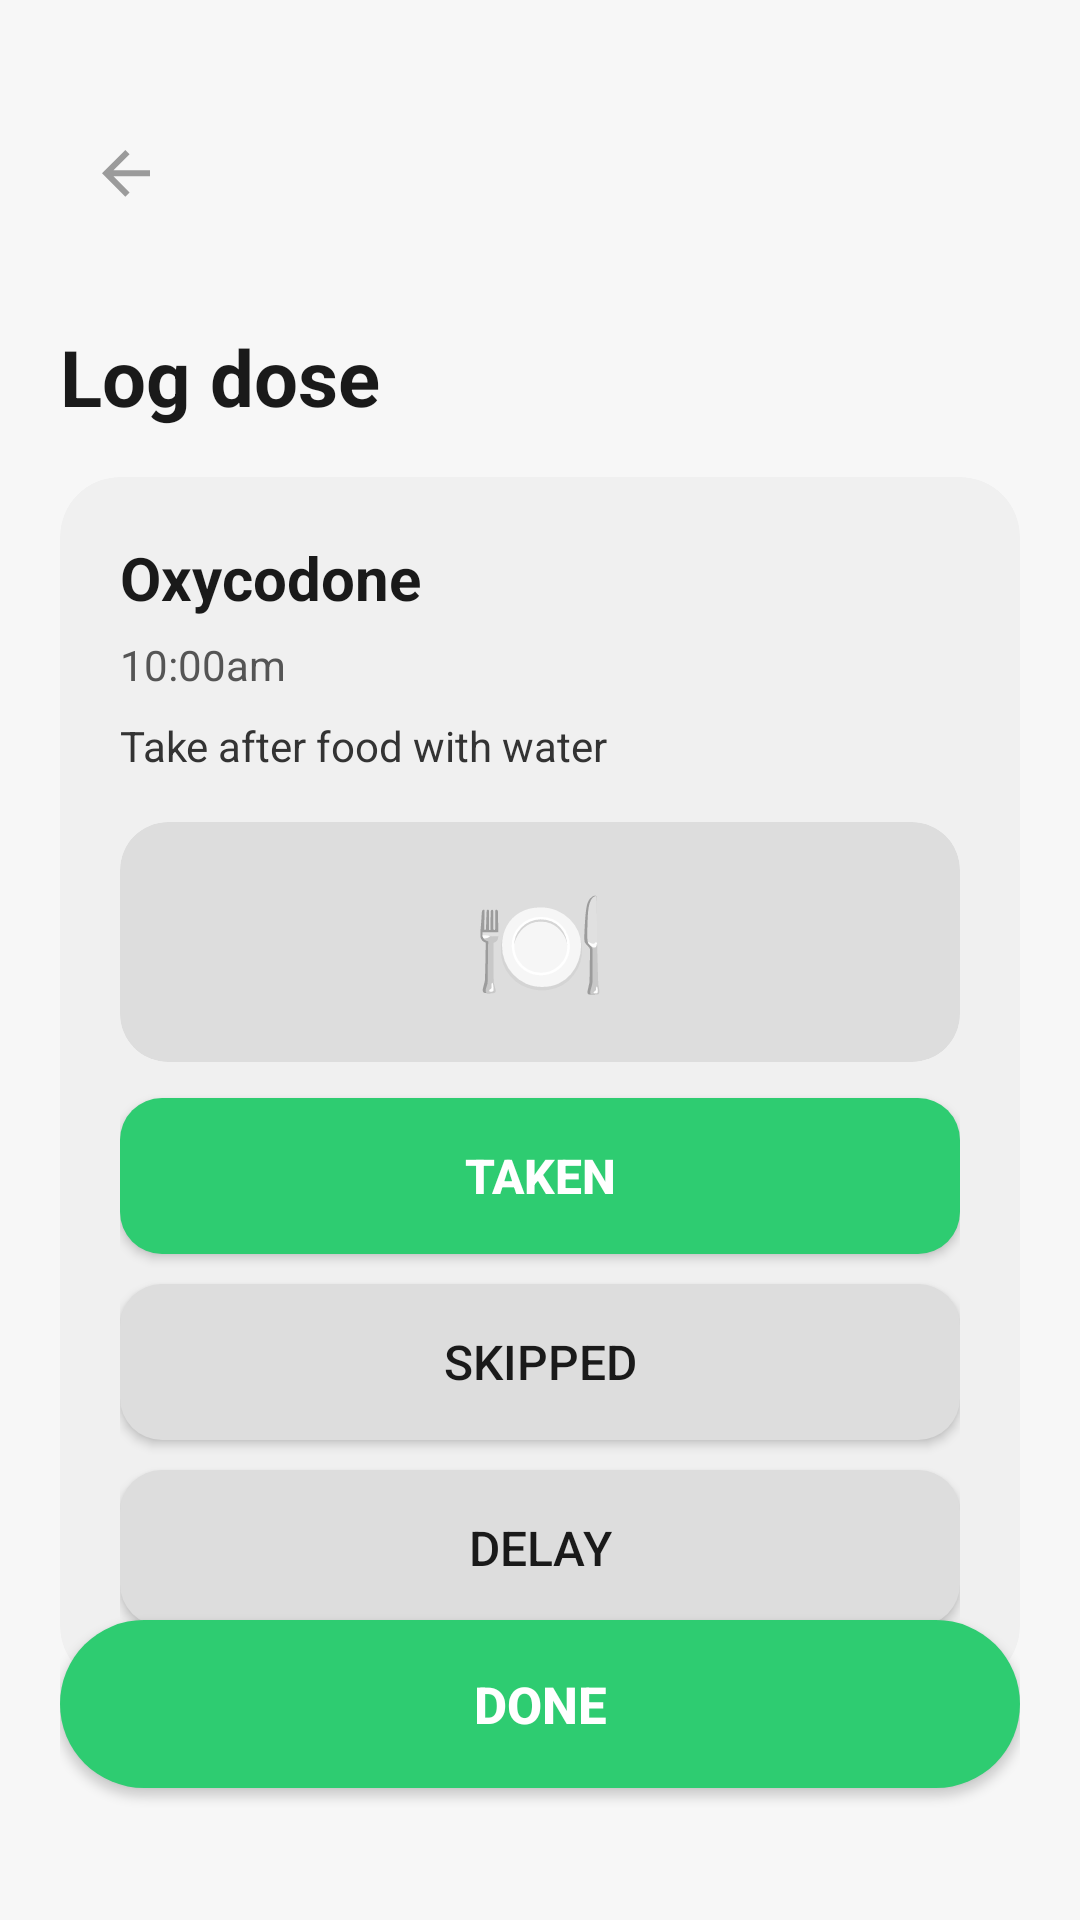

Icon click points for this 1080w x 1920h phone screenshot, format (x,y):
Back: (126,173)
